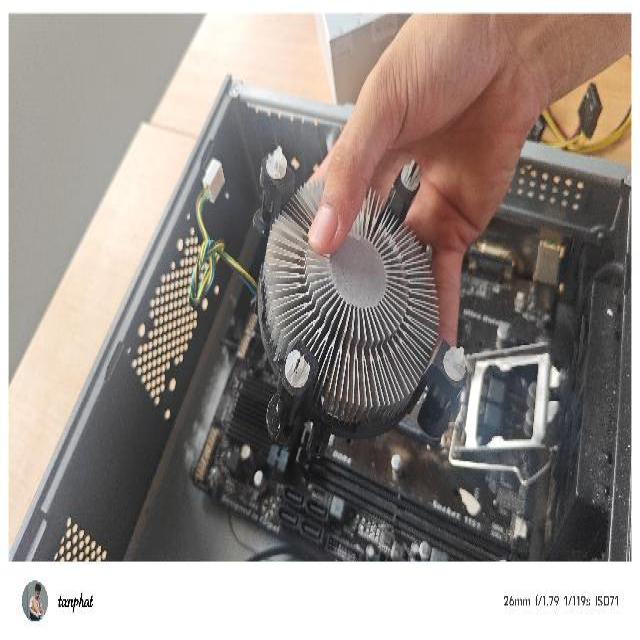CPU_Fan: (206, 144, 468, 452)
